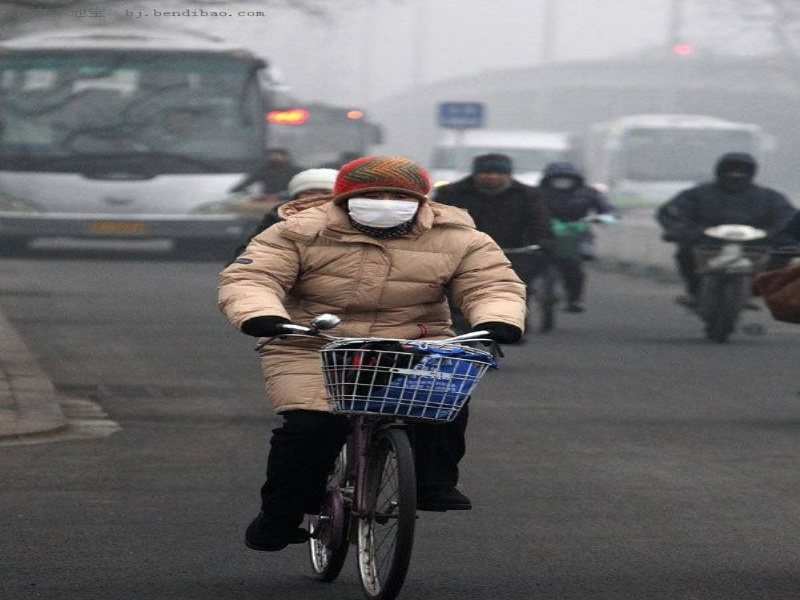mask: (331, 156, 440, 231)
